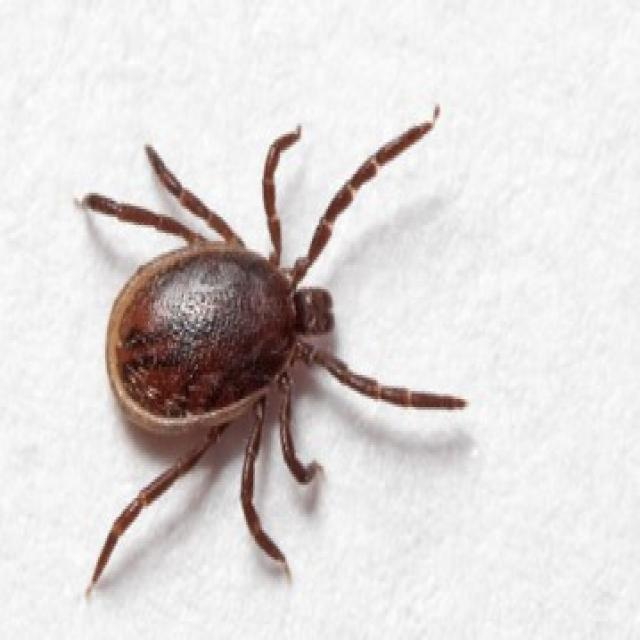Ixodes Ricinus-M: (80, 107, 469, 592)
